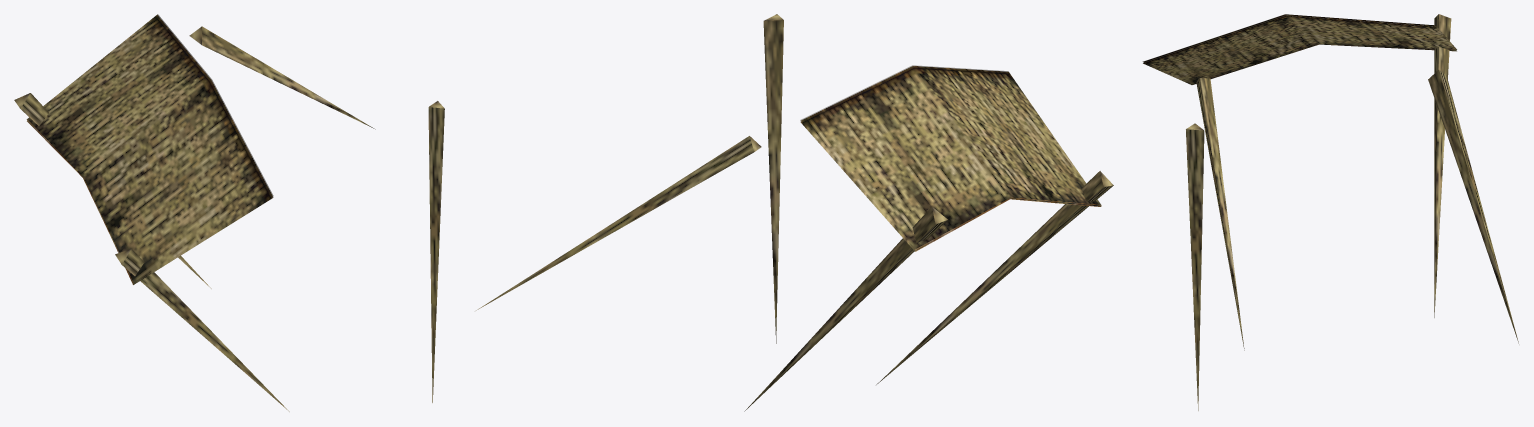
Rendered from tornado_debris_base.glb.
3 views of the same model, side by side, from view 1: azimuth 30°, elevation 25°; view 2: azimuth 150°, elevation 25°; view 3: azimuth 270°, elevation 25° (orthographic). The views are drawn at different scales.
Parts seen in each view (by area): view 1: MeshRoot; view 2: MeshRoot; view 3: MeshRoot.
Part boxes in pixels (x1,y1,x2,y2): MeshRoot: [14, 14, 444, 411]; MeshRoot: [476, 14, 1113, 411]; MeshRoot: [1142, 14, 1518, 410].
Bounding box in the file's own units: 2.34 × 1.77 × 1.9.
1 material, 1 textured.
